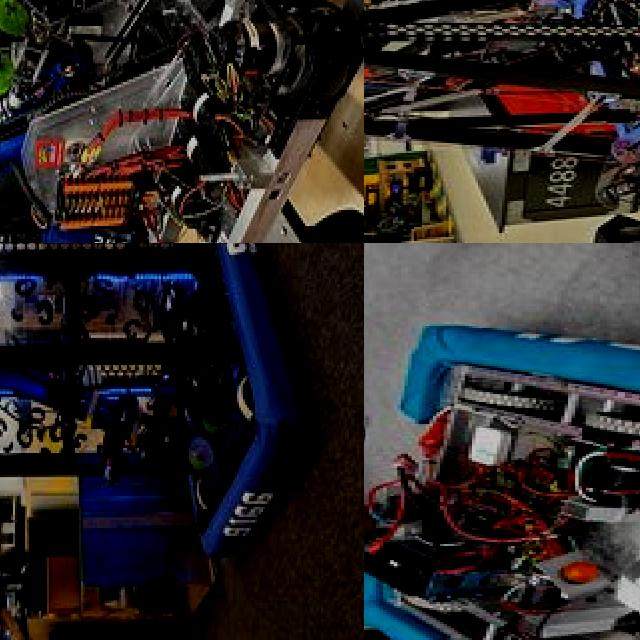FRC-Robots: (0, 243, 319, 572), (364, 316, 640, 640), (0, 0, 336, 243), (364, 0, 640, 227)
